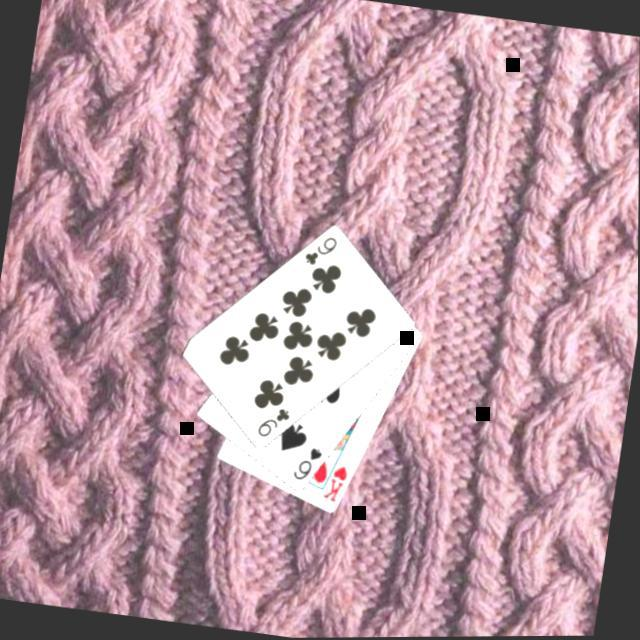6S: (292, 445, 328, 489)
9C: (255, 404, 296, 447), (301, 233, 342, 274)
KH: (322, 463, 354, 508)
